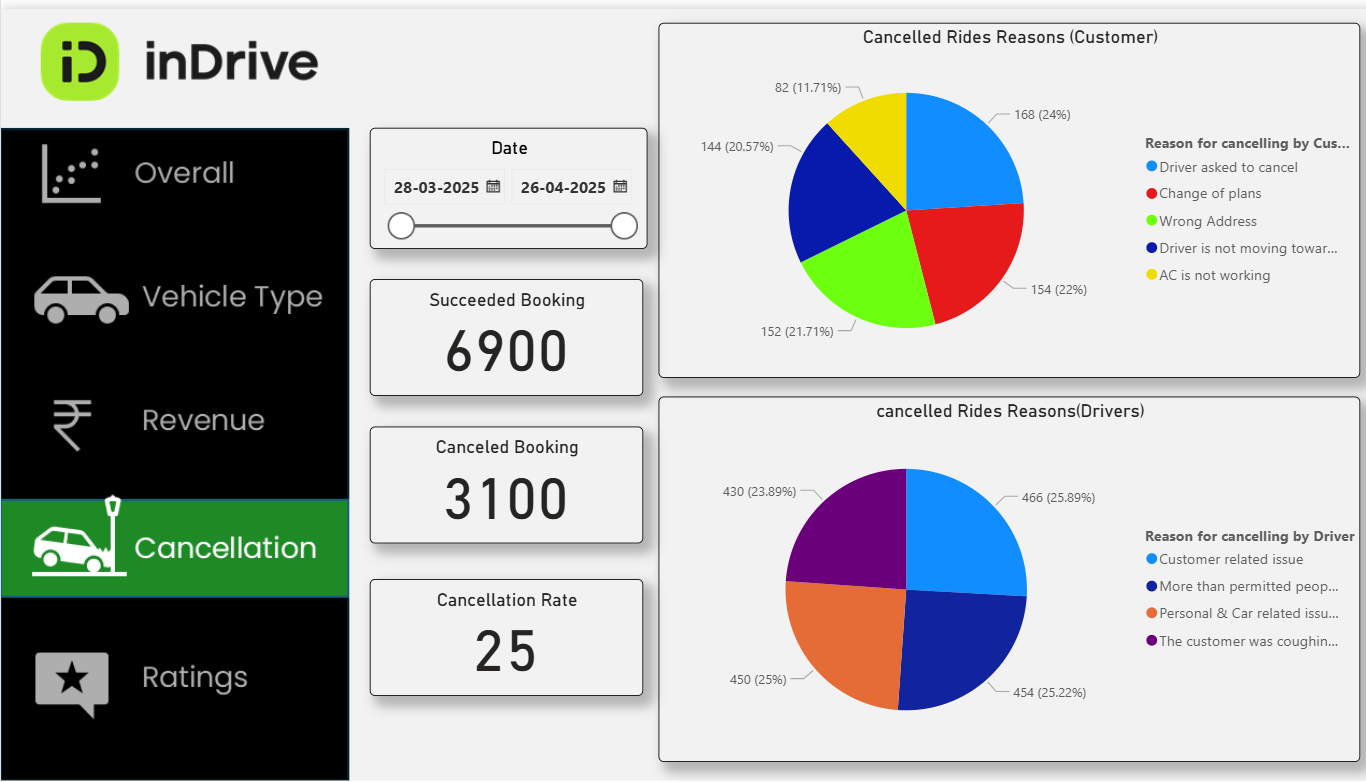

The dashboard page shown, as its layout file describes it:
{"tool":"powerbi","page":{"name":"Cancellation","canvas":[1280,720],"ordinal":3},"visuals":[{"type":"actionButton","box":[0,223.5,323.5,92.9],"z":0},{"type":"actionButton","box":[0,342.4,323.5,92.9],"z":1000},{"type":"actionButton","box":[0,455.3,323.5,92.9],"z":2000},{"type":"actionButton","box":[0,577.6,323.5,92.9],"z":3000},{"type":"actionButton","box":[0,110.6,323.5,92.9],"z":4000},{"type":"pieChart","title":" Cancelled Rides Reasons (Customer)","fields":{"Category":["Delhi_CAB_booking_data_final.Reason for cancelling by Customer"],"Y":["Sum(Delhi_CAB_booking_data_final.Cancelled Rides by Customer)"]},"box":[611.4,12.9,652.9,330],"z":5000},{"type":"pieChart","title":" cancelled Rides Reasons(Drivers)","fields":{"Category":["Delhi_CAB_booking_data_final.Reason for cancelling by Driver"],"Y":["Sum(Delhi_CAB_booking_data_final.Cancelled Rides by Driver)"]},"box":[611.4,360,652.9,340],"z":6000},{"type":"slicer","title":"Date","fields":{"Values":["Delhi_CAB_booking_data_final.Date"]},"box":[342.9,110,258.6,112.9],"z":7000},{"type":"card","title":"Succeeded Booking","fields":{"Values":["CountNonNull(Delhi_CAB_booking_data_final.Booking Value)"]},"box":[342.9,251.4,254.3,108.6],"z":8000},{"type":"card","title":"Canceled Booking","fields":{"Values":["CountNonNull(Delhi_CAB_booking_data_final.Booking ID)"]},"box":[342.9,388.6,254.3,108.6],"z":9000},{"type":"card","title":"Cancellation Rate","fields":{"Values":["Delhi_CAB_booking_data_final.CancelledPercentage"]},"box":[342.9,530,254.3,108.6],"z":10000}]}

Visuals, with their boxes in screenshot pixels (x1, y1, x2, y2), scaled from the page's 1280x720 canvas onto the 1366x782 screenshot:
actionButton: [left=0, top=243, right=345, bottom=344]
actionButton: [left=0, top=372, right=345, bottom=473]
actionButton: [left=0, top=495, right=345, bottom=595]
actionButton: [left=0, top=627, right=345, bottom=728]
actionButton: [left=0, top=120, right=345, bottom=221]
" Cancelled Rides Reasons (Customer)" pieChart: [left=652, top=14, right=1349, bottom=372]
" cancelled Rides Reasons(Drivers)" pieChart: [left=652, top=391, right=1349, bottom=760]
"Date" slicer: [left=366, top=119, right=642, bottom=242]
"Succeeded Booking" card: [left=366, top=273, right=637, bottom=391]
"Canceled Booking" card: [left=366, top=422, right=637, bottom=540]
"Cancellation Rate" card: [left=366, top=576, right=637, bottom=694]
